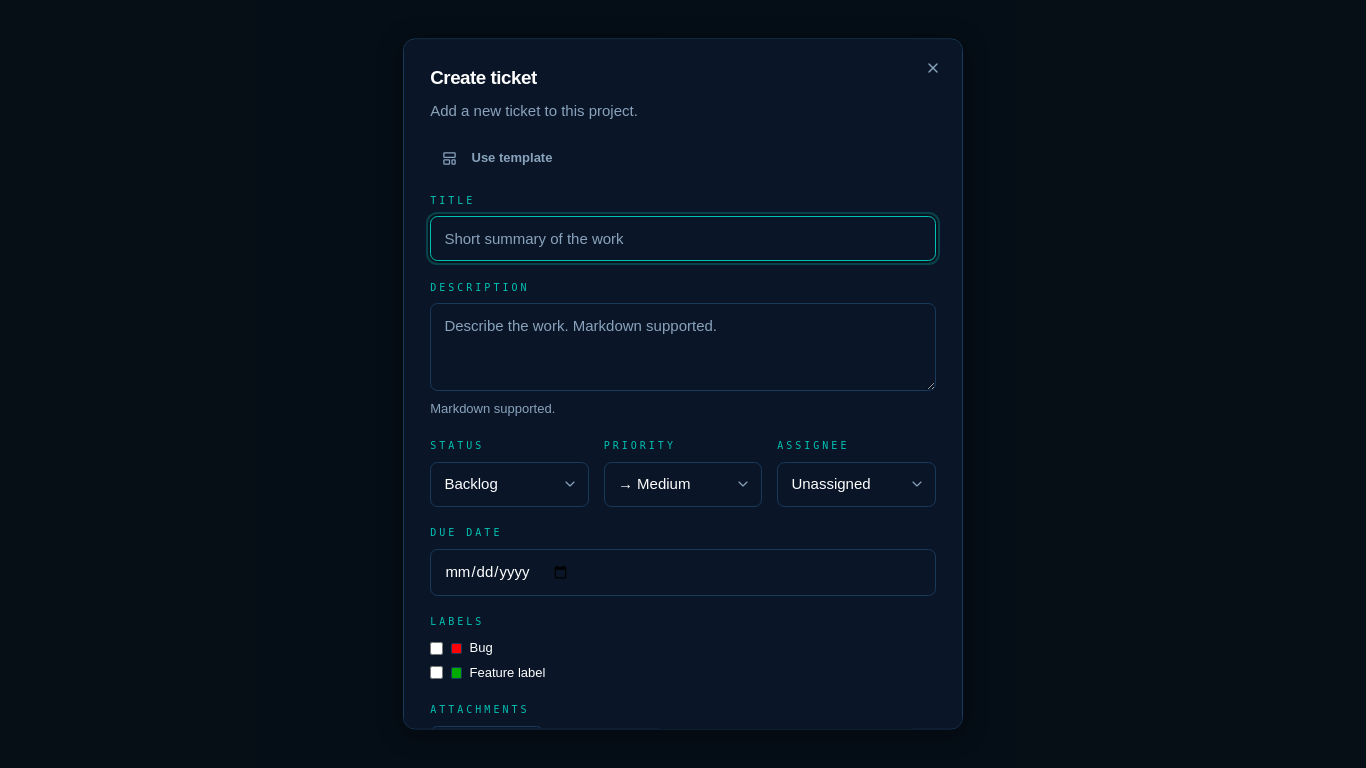
Test: CreateTicketDialog — templates and labels › shows the empty-state copy when the project has no templates
Click the button "Use template" at (497, 158), box [430, 142, 564, 174]
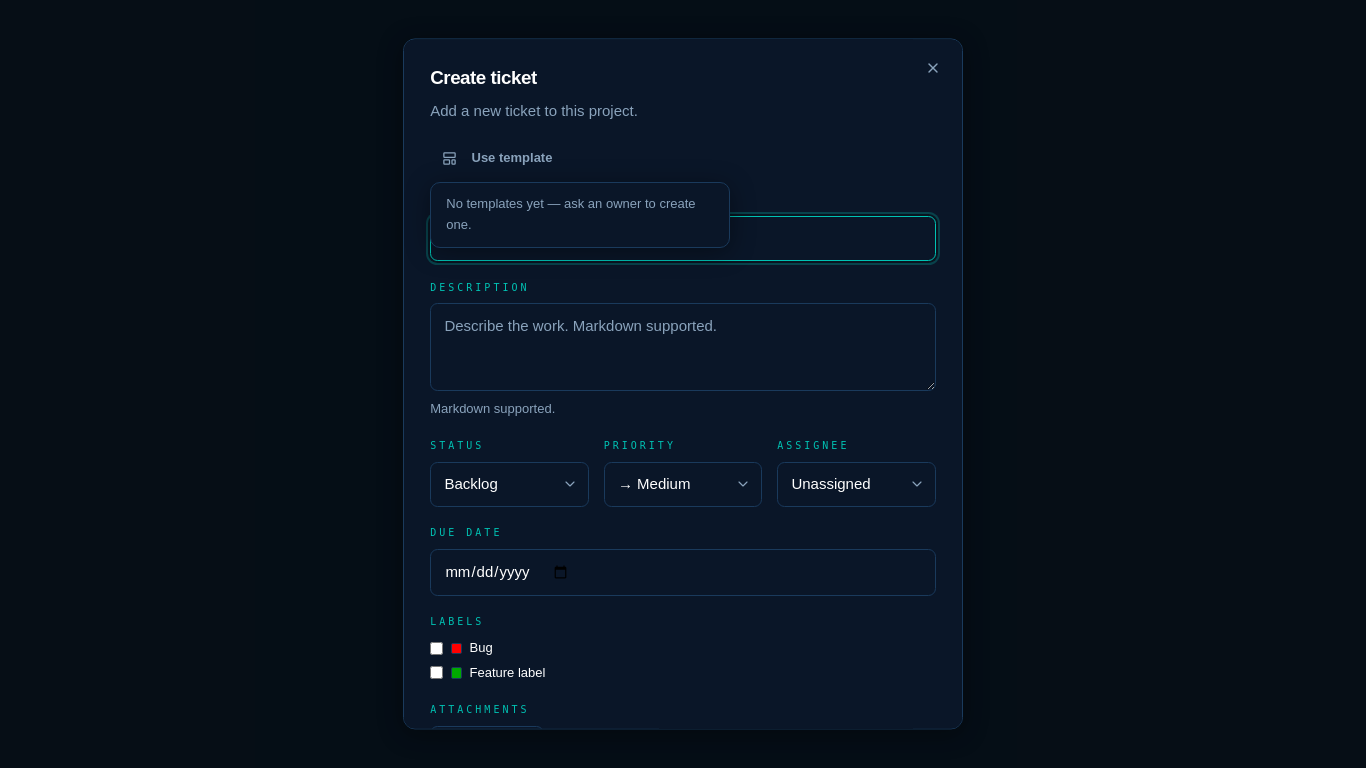
Now the text "No templates yet — ask an owner to create one." is shown, box [435, 187, 726, 243]
